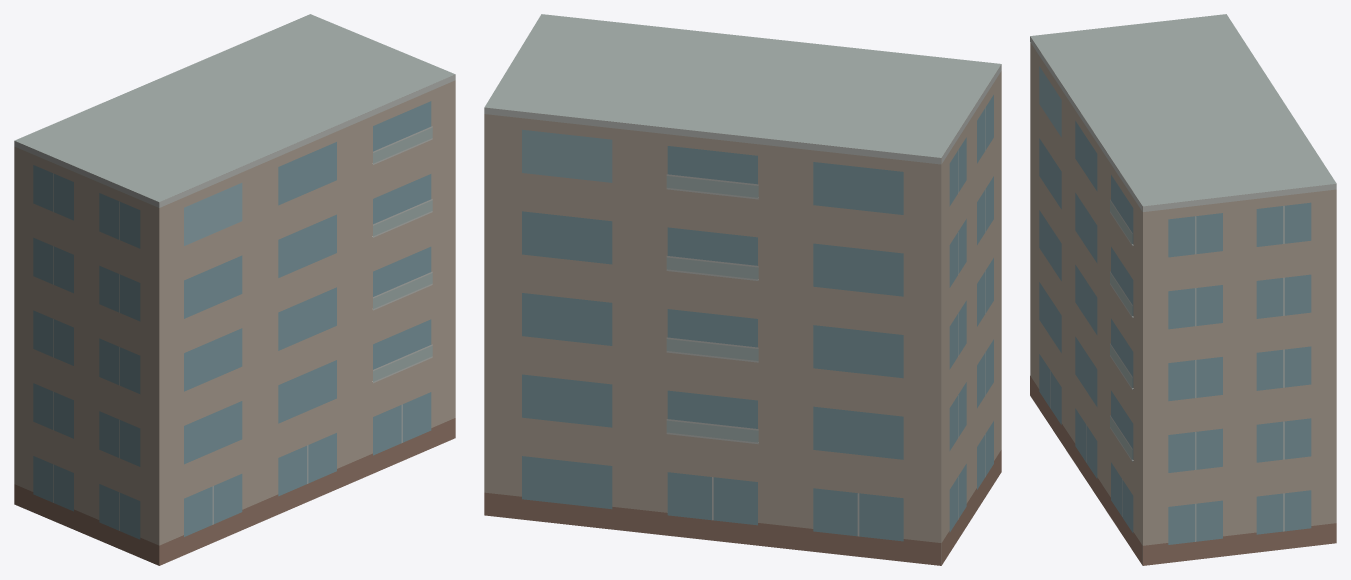
File: survey-upis-33013616.glb
3 renders of one model, left to right at view 1: azimuth 30°, elevation 25°; view 2: azimuth 150°, elevation 25°; view 3: azimuth 270°, elevation 25°, orthographic. The views are drawn at different scales.
Parts seen in each view (by area): view 1: survey-upis-33013616.tmp; view 2: survey-upis-33013616.tmp; view 3: survey-upis-33013616.tmp.
Part boxes in pixels (box(x1,y1,x2,y2)): survey-upis-33013616.tmp: box(14, 14, 455, 565); survey-upis-33013616.tmp: box(484, 14, 1001, 565); survey-upis-33013616.tmp: box(1030, 14, 1336, 565).
Size of the model in its own units: 17.52 by 15.25 by 11.8.
